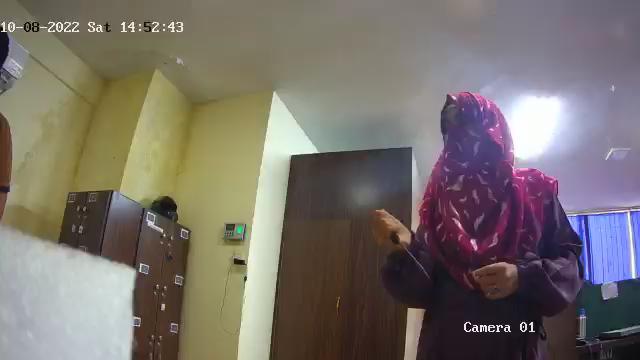knives: (376, 212, 429, 280)
